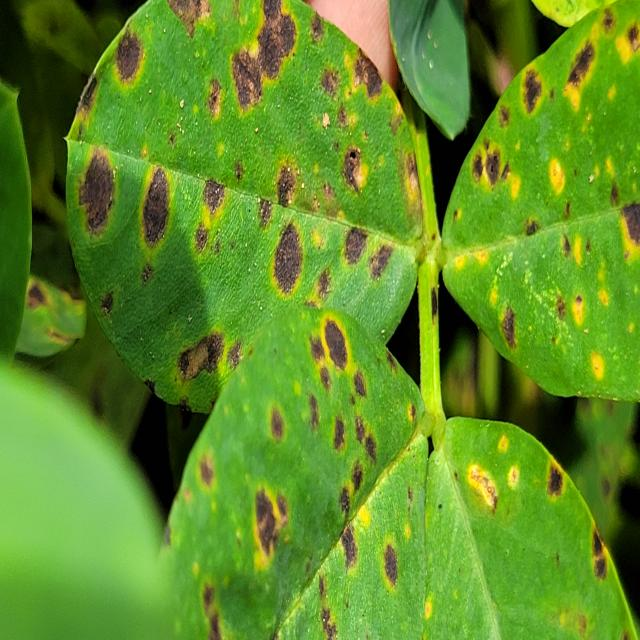Ground nut_tikka leaf spot: (65, 0, 425, 408), (158, 302, 434, 640), (440, 0, 640, 400)
